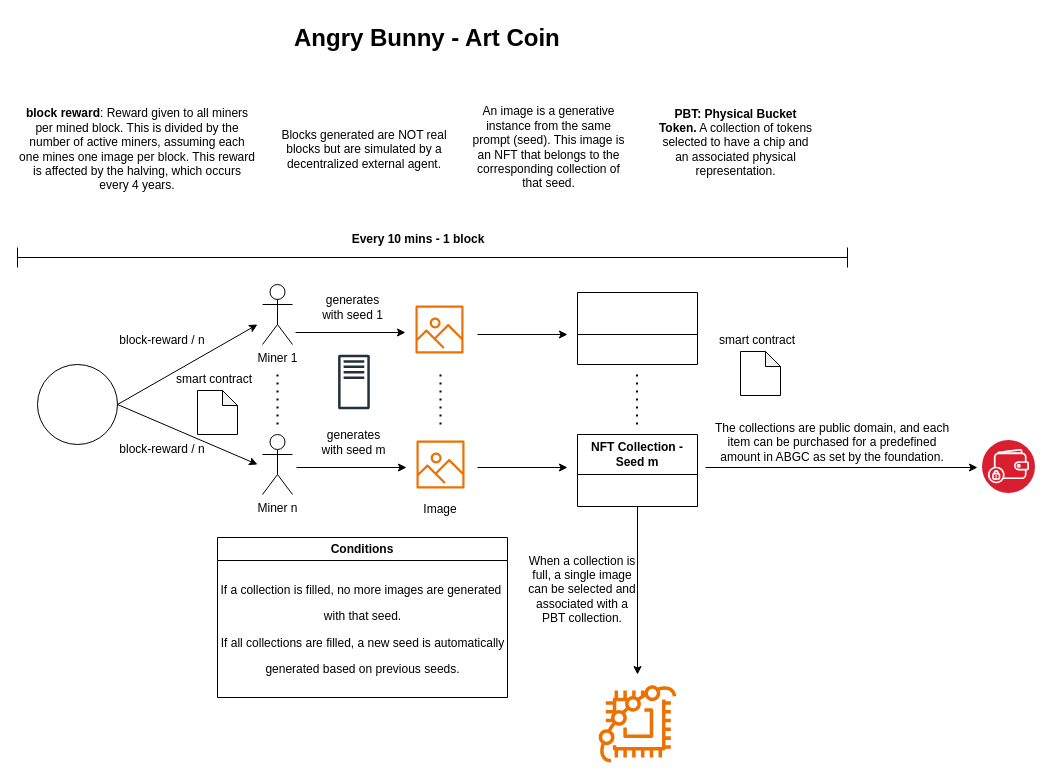
The diagram is 1053 pixels wide and 779 high, and some of its shapes have lost their labels. The shapes that lost their labels are listed below. From the top down, each one's centre as x and y in pixels, then its label:
pixel 637 328: NFT Collection - Seed 1
pixel 77 404: AGBC (angry bunny art coin) ERC20
